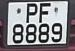8: (38, 21, 51, 45), (25, 22, 38, 45), (12, 23, 25, 45)
9: (50, 21, 64, 44)
F: (38, 2, 52, 25)
P: (25, 2, 39, 25)
